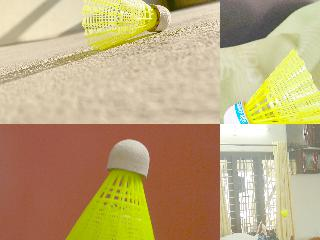shuttlecock: (60, 139, 160, 239), (221, 47, 319, 123), (81, 0, 171, 50), (280, 210, 288, 219)
